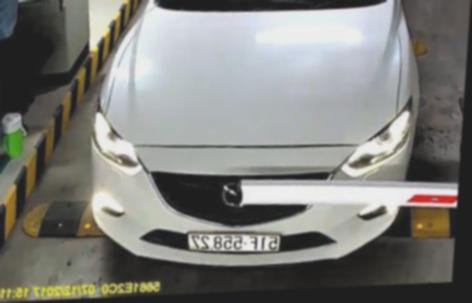License_Plate: (177, 224, 282, 257)
